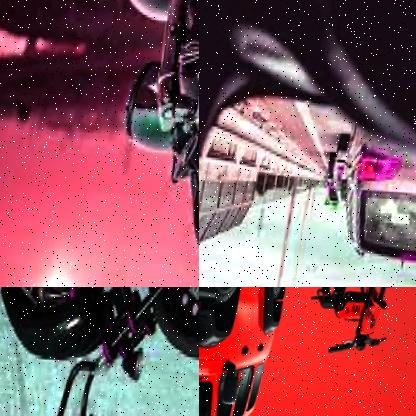bike: (75, 0, 199, 287), (0, 287, 199, 416), (303, 287, 416, 353)
car: (199, 287, 306, 416), (326, 131, 416, 266)
